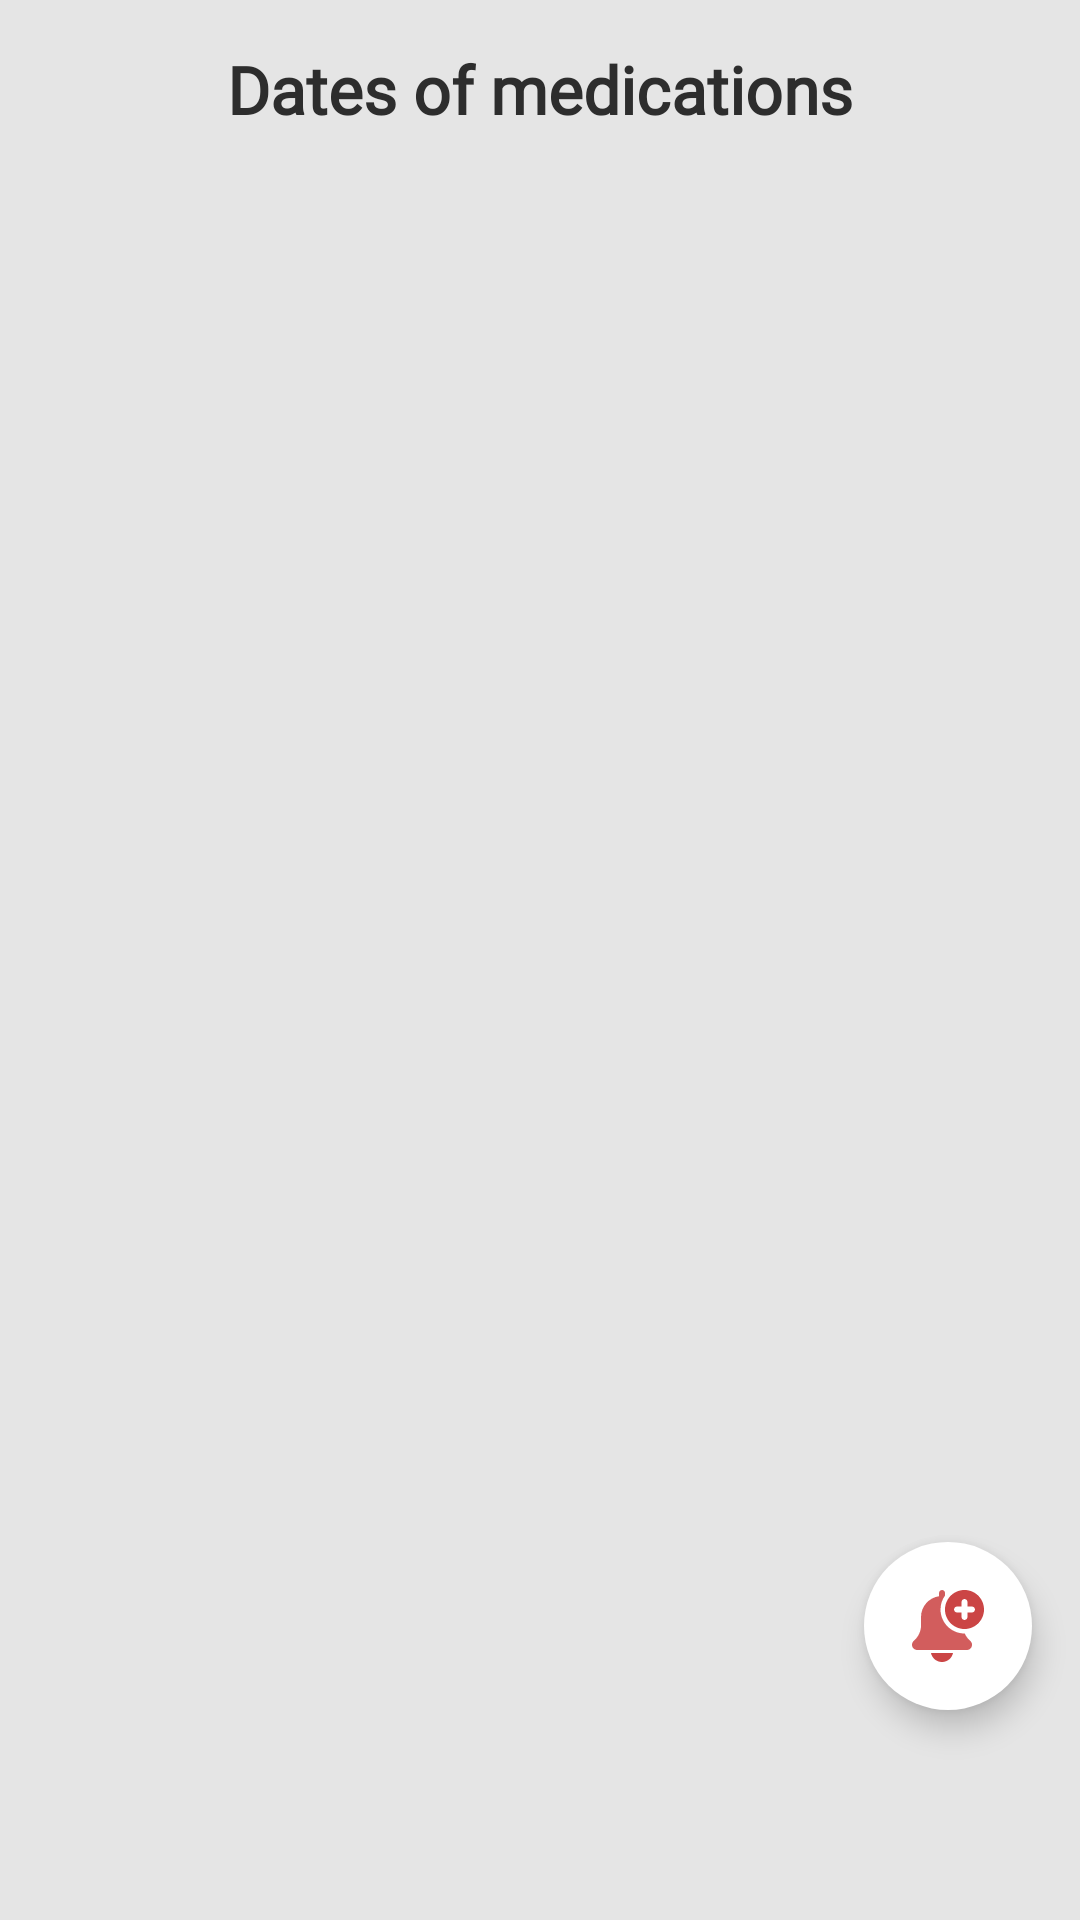

Icon bounding boxes for this 1080w x 1920h phone screenshot, format BBox(x1, y1, x2, y2):
add: BBox(864, 1542, 1032, 1710)
